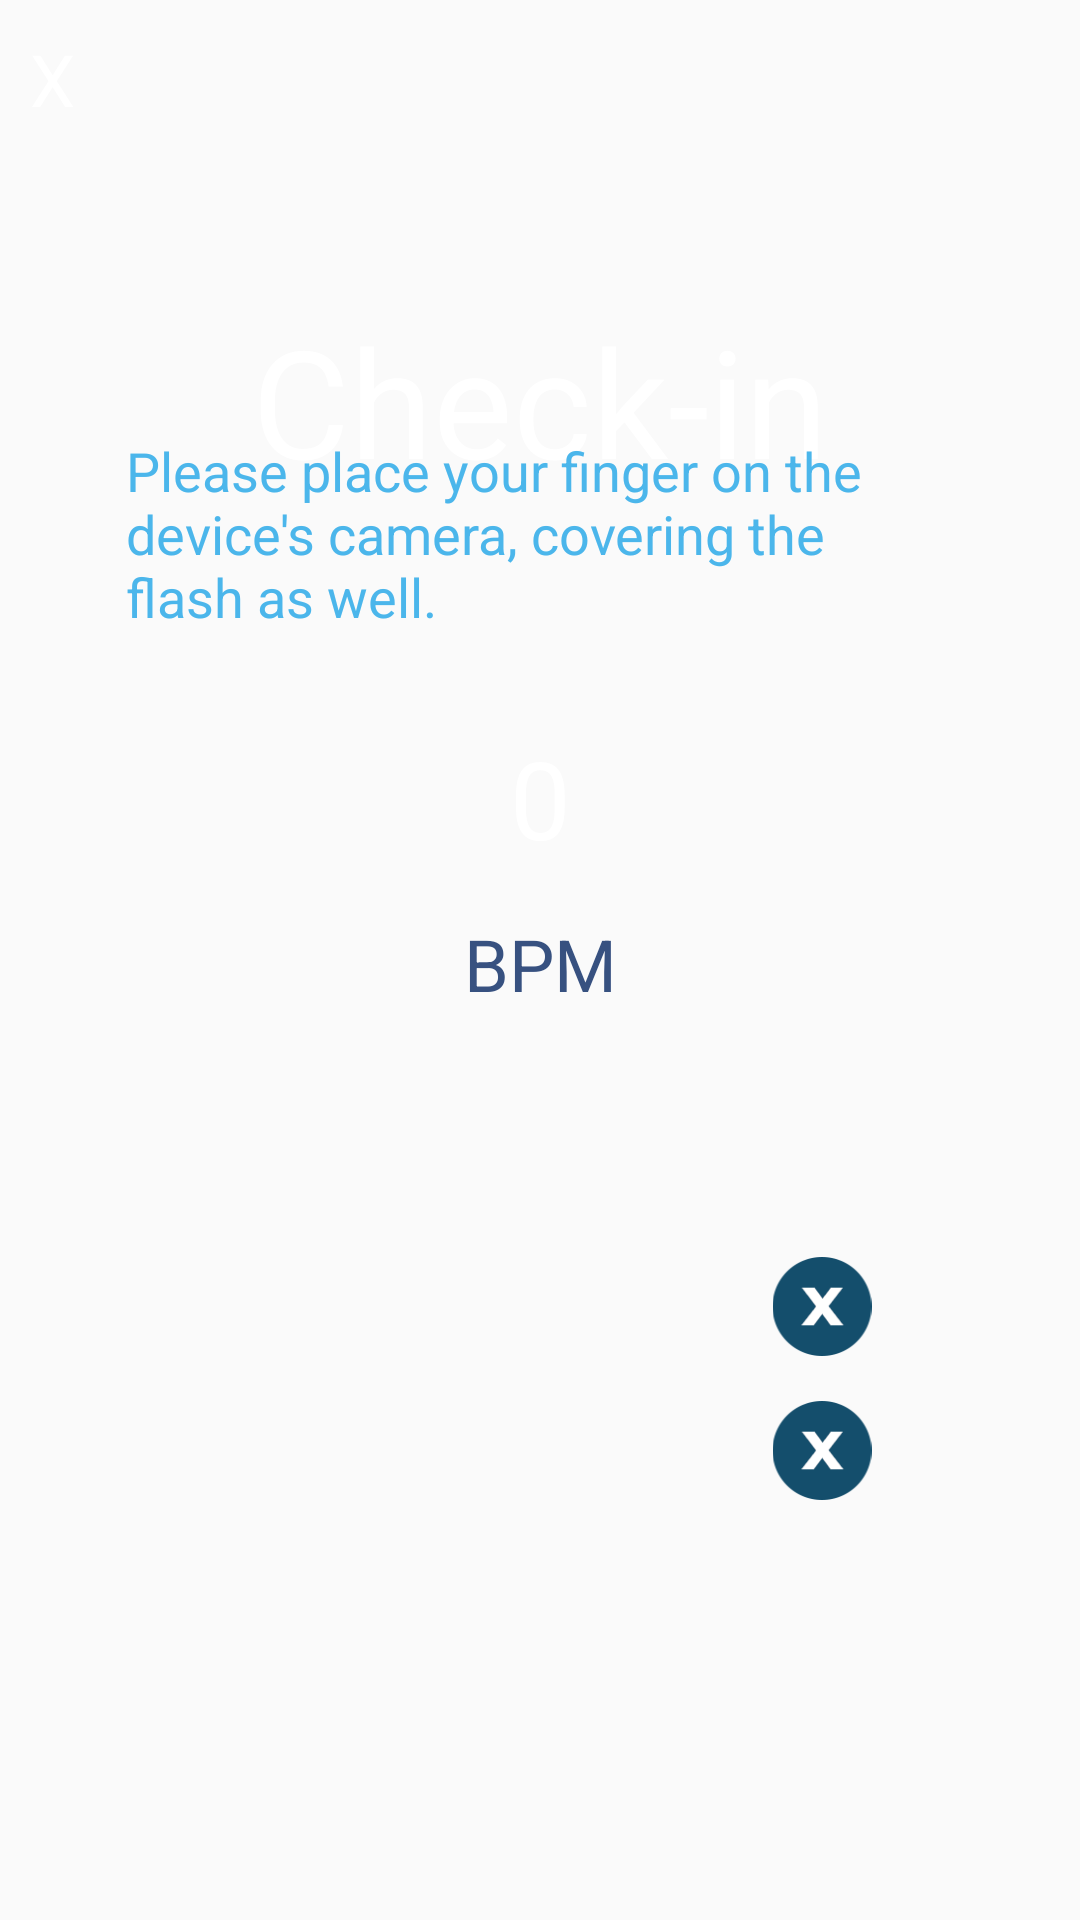

Screen size 1080x1920. Icon name, then its center in pixels as point (x, y):
checkfailed: point (822, 1306), point (822, 1450)
